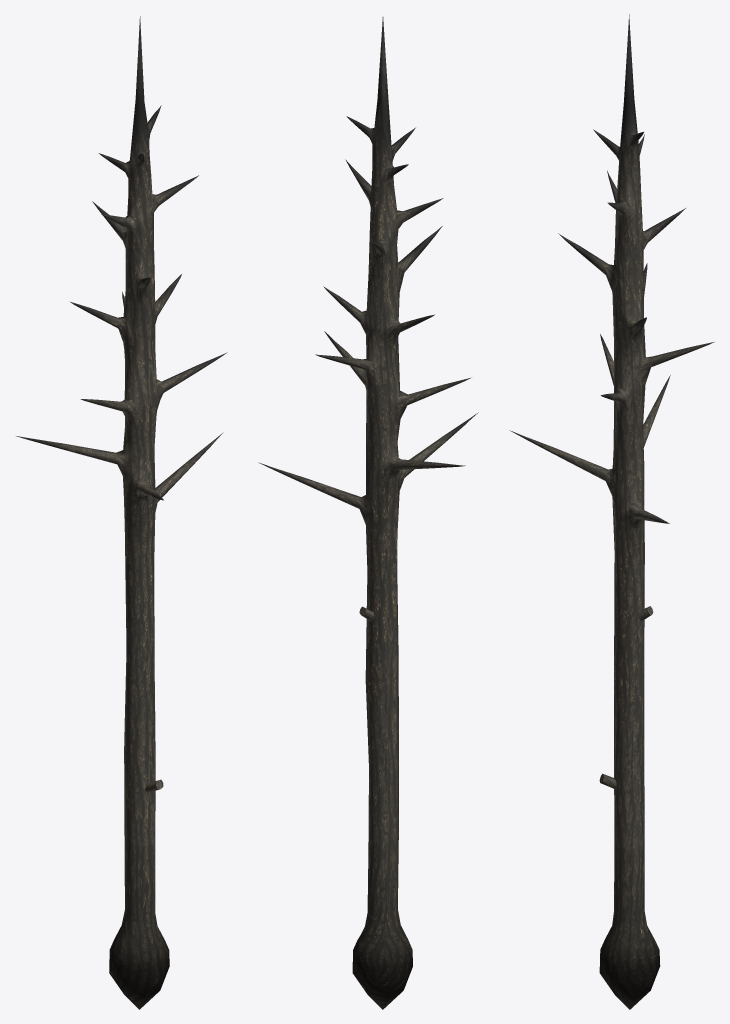
The model's file is MSH_Tree_Dead_01.FBX.
3 renders of one model, left to right at view 1: azimuth 30°, elevation 25°; view 2: azimuth 150°, elevation 25°; view 3: azimuth 270°, elevation 25°, orthographic.
Visible parts, largest first — view 1: MSH_Tree_Dead_01_LOD0; view 2: MSH_Tree_Dead_01_LOD0; view 3: MSH_Tree_Dead_01_LOD0.
Part boxes in pixels (left/top/right/bottom): MSH_Tree_Dead_01_LOD0: left=16, top=16, right=227, bottom=1009; MSH_Tree_Dead_01_LOD0: left=258, top=17, right=478, bottom=1009; MSH_Tree_Dead_01_LOD0: left=509, top=14, right=714, bottom=1009.
Size of what is drawn, in the model's own units: 252 by 1147 by 217.
